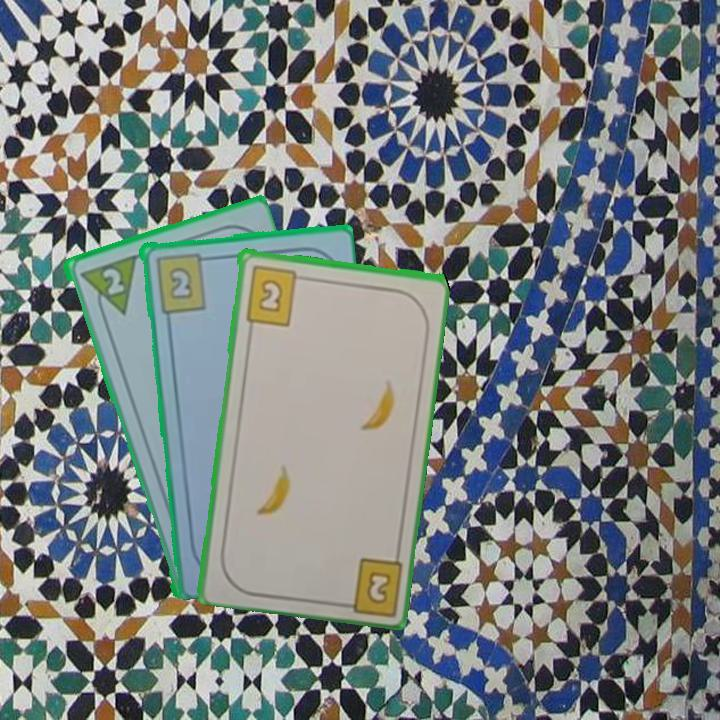2b: (241, 261, 309, 328), (333, 553, 404, 615), (152, 249, 213, 315)
2p: (75, 251, 139, 323)
